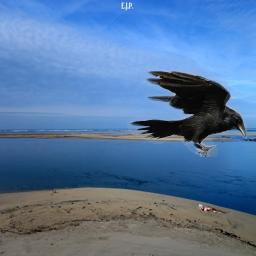Crow: (127, 69, 247, 157)
